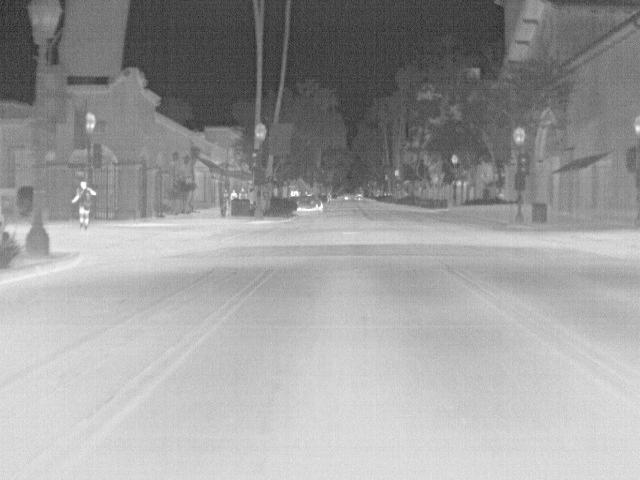car: (295, 193, 323, 210), (355, 193, 363, 202)
person: (74, 178, 94, 231), (230, 190, 237, 200), (240, 188, 247, 198)
